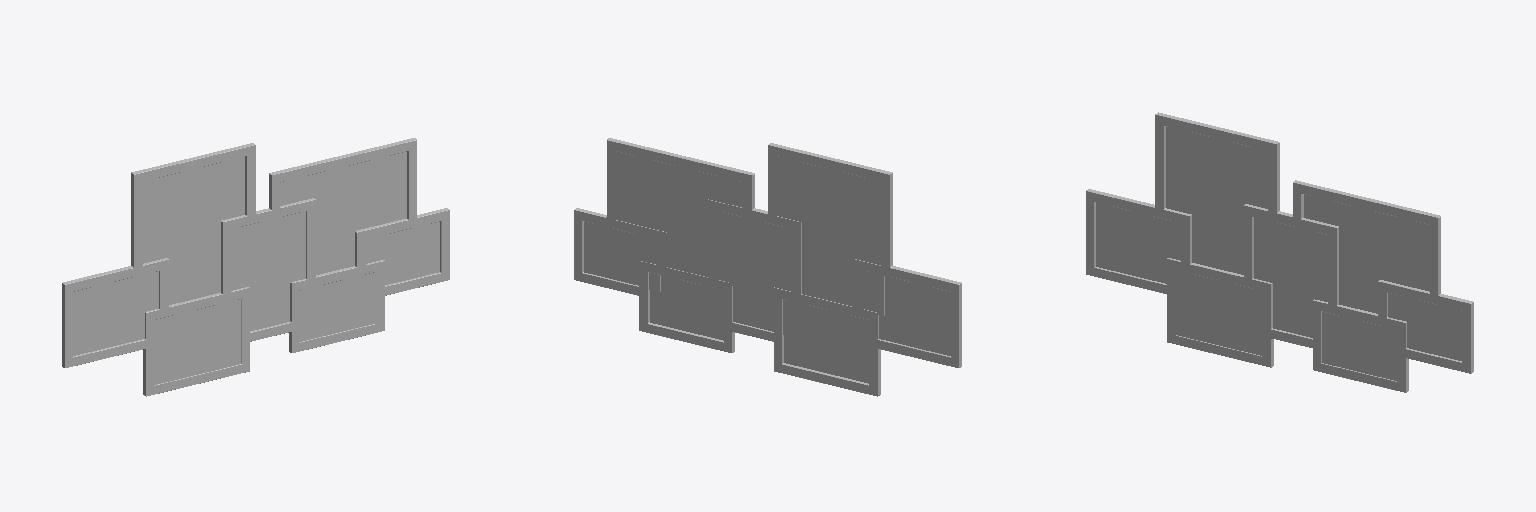
The model's file is Frame photo Cluster 7 N260119.obj.
3 renders of one model, left to right at view 1: azimuth 30°, elevation 25°; view 2: azimuth 150°, elevation 25°; view 3: azimuth 330°, elevation 25°, orthographic.
Parts seen in each view (by area): view 1: Fotoramka_Cluster_7, Box23, Box27, Box22, Box25, Box26, Box21, Box24; view 2: Fotoramka_Cluster_7, Foto_23, Foto_27, Foto_25, Foto_26, Foto_22, Foto_21, Foto_24; view 3: Fotoramka_Cluster_7, Box23, Box27, Box22, Box25, Box26, Box21, Box24.
Boxes of the visible parts, x1=… form: Fotoramka_Cluster_7: x1=62, y1=138, x2=449, y2=396; Box23: x1=143, y1=157, x2=244, y2=304; Box27: x1=280, y1=152, x2=406, y2=274; Box22: x1=231, y1=211, x2=305, y2=330; Box25: x1=155, y1=299, x2=240, y2=384; Box26: x1=73, y1=271, x2=158, y2=355; Box21: x1=300, y1=272, x2=375, y2=341; Box24: x1=366, y1=222, x2=439, y2=284; Fotoramka_Cluster_7: x1=574, y1=138, x2=961, y2=396; Foto_23: x1=775, y1=156, x2=883, y2=315; Foto_27: x1=614, y1=151, x2=744, y2=287; Foto_25: x1=784, y1=302, x2=868, y2=383; Foto_26: x1=864, y1=276, x2=950, y2=355; Foto_22: x1=716, y1=218, x2=793, y2=336; Foto_21: x1=650, y1=275, x2=723, y2=340; Foto_24: x1=584, y1=222, x2=659, y2=291; Fotoramka_Cluster_7: x1=1086, y1=112, x2=1473, y2=392; Box23: x1=1166, y1=126, x2=1267, y2=274; Box27: x1=1304, y1=194, x2=1429, y2=313; Box22: x1=1254, y1=217, x2=1327, y2=337; Box25: x1=1176, y1=270, x2=1262, y2=355; Box26: x1=1096, y1=202, x2=1180, y2=283; Box21: x1=1322, y1=312, x2=1396, y2=380; Box24: x1=1388, y1=293, x2=1462, y2=361.
Bounding box in the file's own units: 740 × 413 × 10.